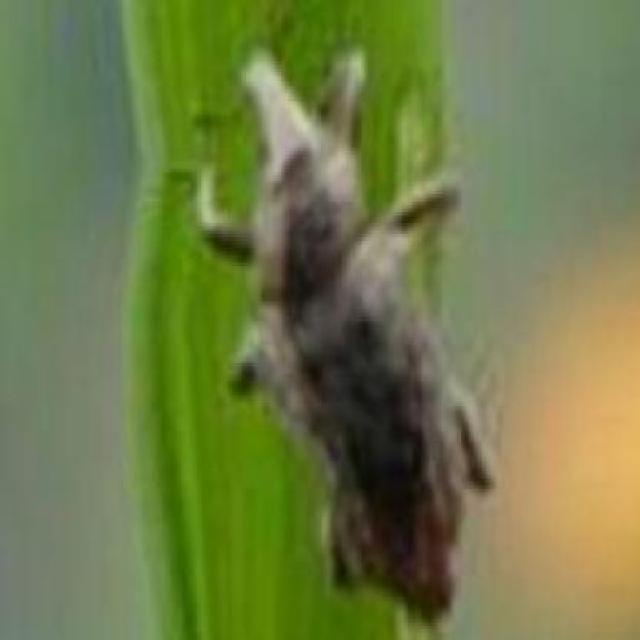rice-bug: (228, 32, 494, 616)
